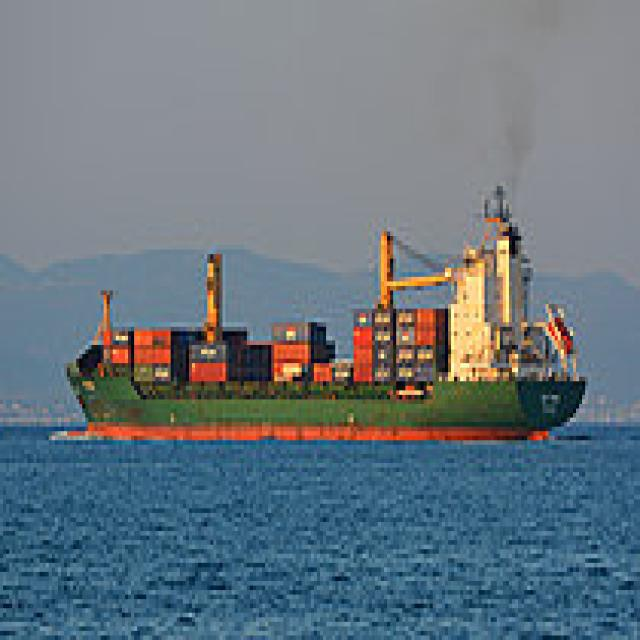Cargo: (61, 177, 588, 436)
